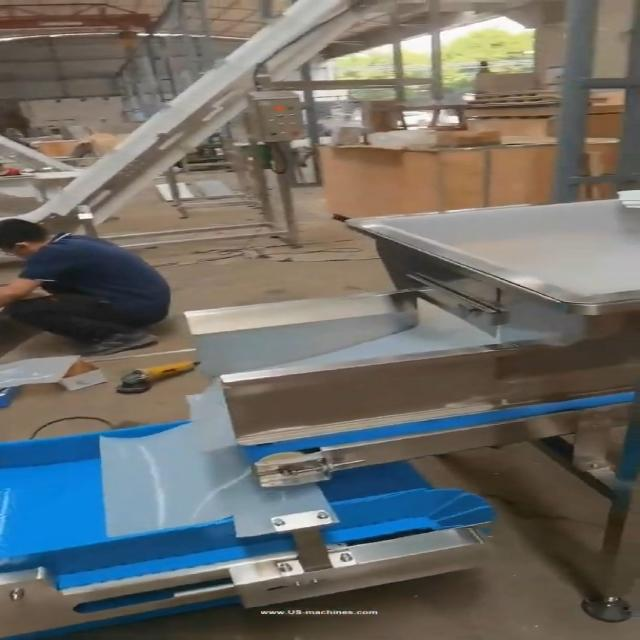Convoyeur: (0, 416, 553, 640)
